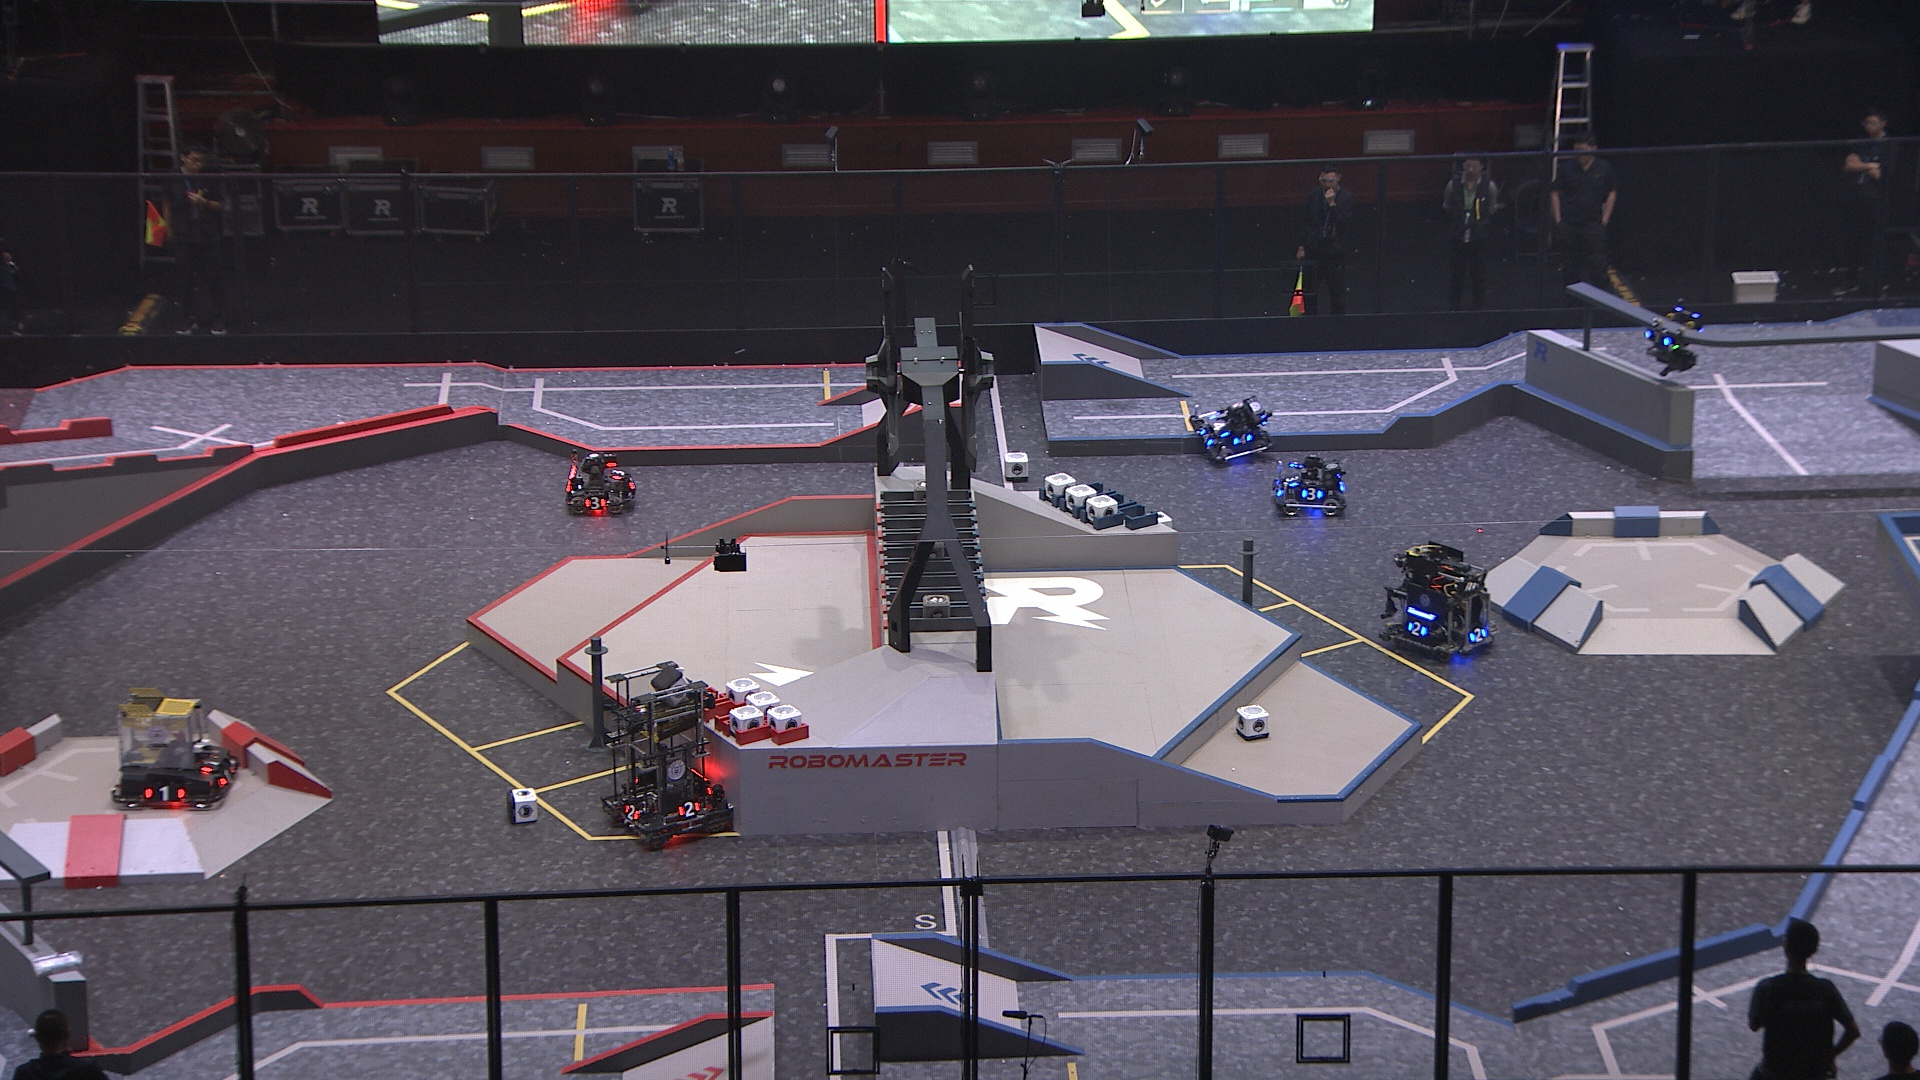armor: (144, 783, 185, 803), (1643, 324, 1673, 349), (196, 749, 219, 778), (212, 761, 233, 789), (1466, 622, 1489, 645), (1211, 414, 1230, 439), (583, 495, 609, 512), (678, 800, 703, 818), (1408, 618, 1429, 638), (1200, 423, 1216, 448), (621, 803, 642, 822), (607, 465, 628, 483), (1302, 484, 1323, 501), (1232, 431, 1255, 446), (1283, 471, 1302, 488)
car: (596, 659, 736, 851), (105, 684, 245, 816), (1375, 541, 1501, 659), (1188, 394, 1273, 469), (1269, 451, 1349, 520), (560, 448, 636, 518)
watcher: (1640, 295, 1705, 377)
